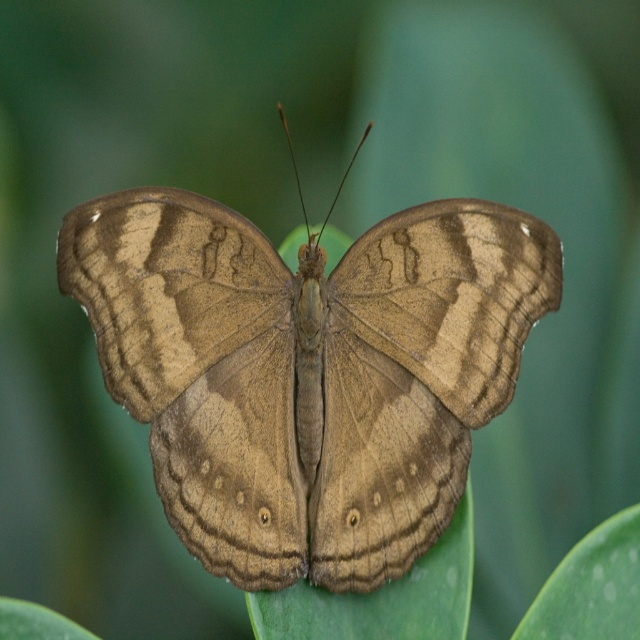Butterfly: (77, 90, 549, 615)
